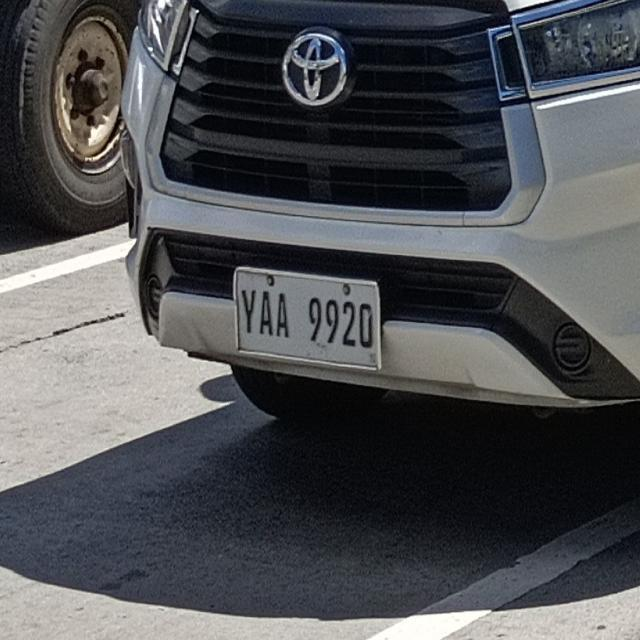LicensePlate: (223, 254, 396, 376)
